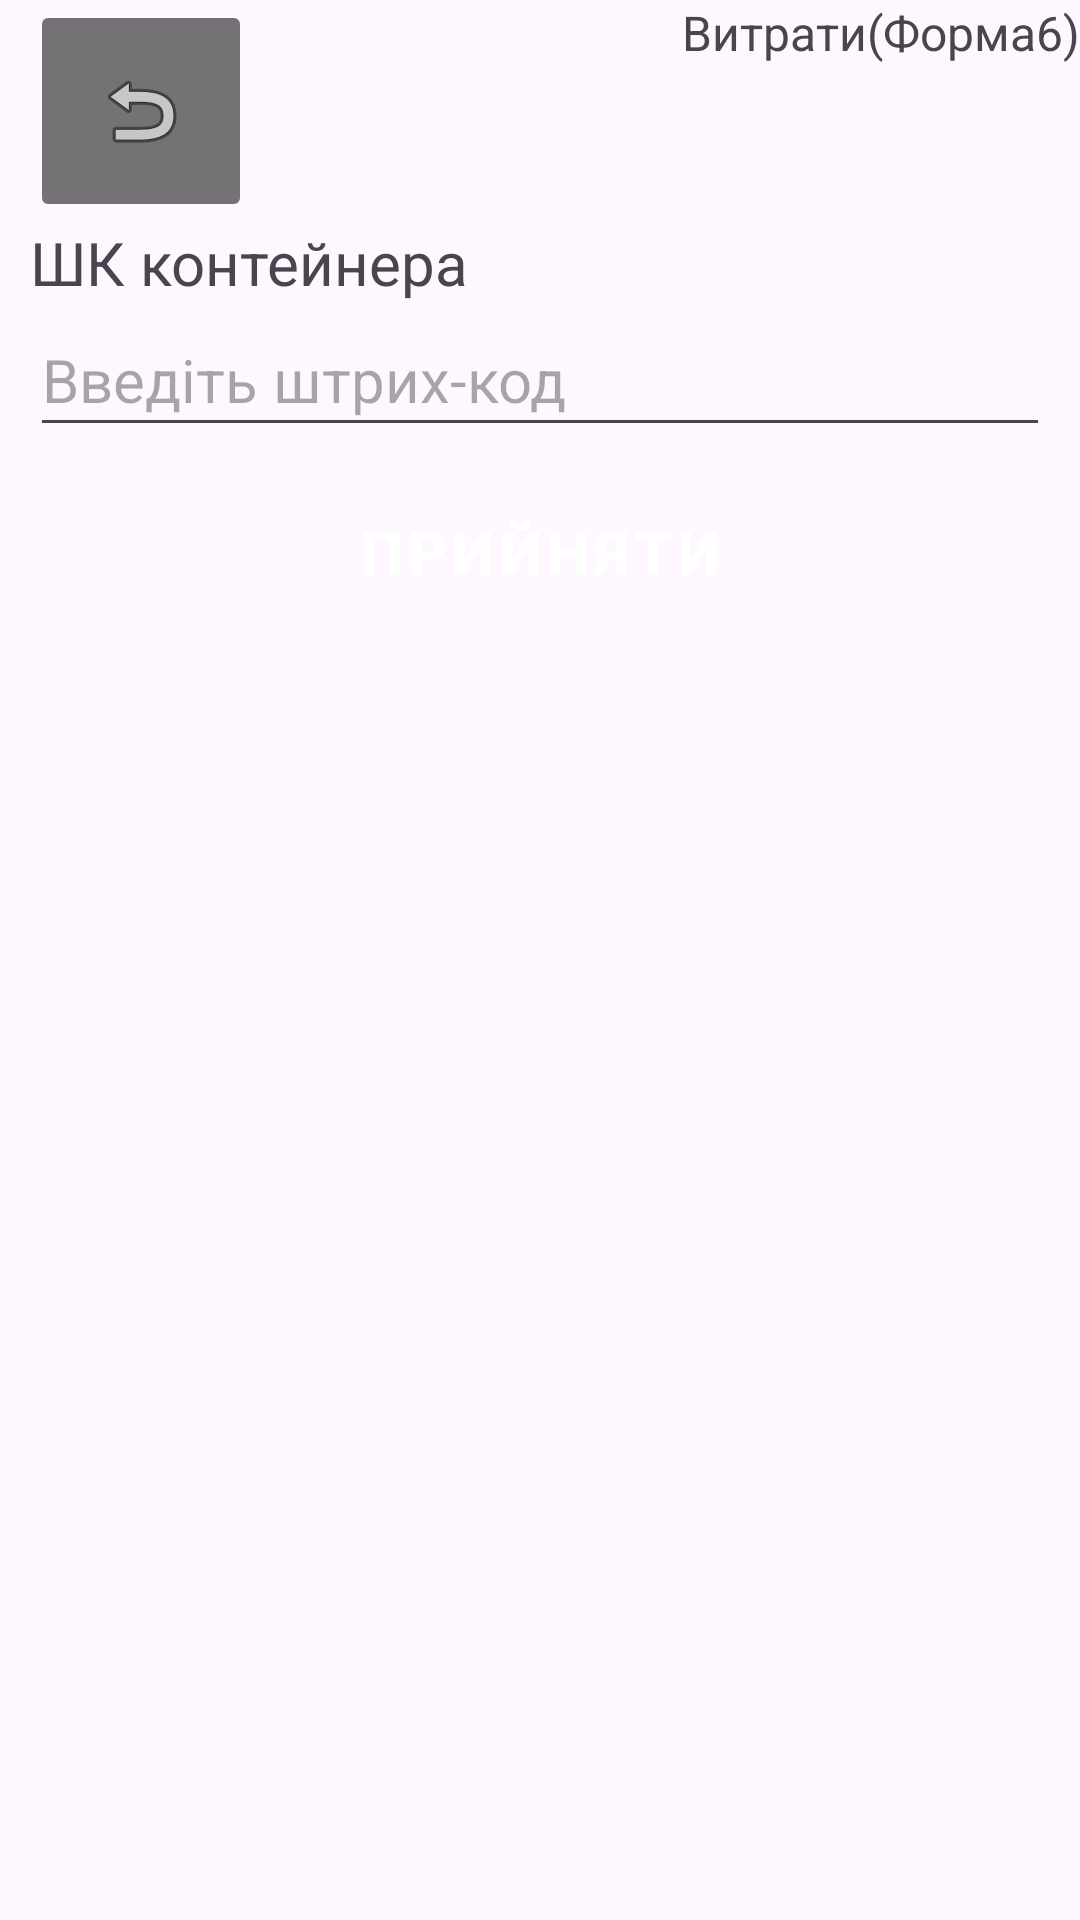

Screen size 1080 × 1920. Icon name, then its center in pixels as point (x, y):
На головну: point (141, 111)
